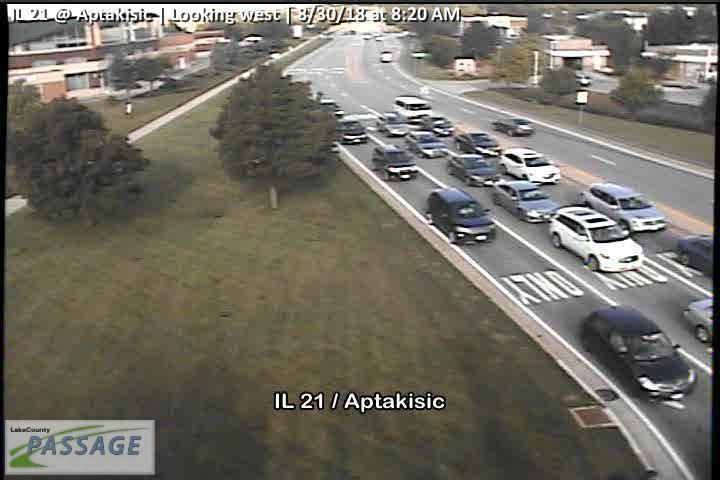SUV: (549, 206, 645, 277), (581, 182, 666, 233), (425, 189, 495, 247)
Sedan: (581, 304, 698, 404), (494, 180, 555, 225), (501, 149, 559, 184), (370, 145, 419, 183), (447, 152, 498, 187), (404, 131, 448, 159), (453, 131, 500, 157), (338, 119, 370, 148), (492, 116, 535, 137), (379, 113, 406, 135), (427, 117, 454, 135)
Truck: (393, 96, 432, 120)
